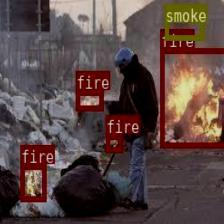fire: (159, 48, 224, 147), (20, 163, 45, 200), (75, 89, 102, 110), (105, 134, 122, 152)
smoke: (164, 4, 203, 40)
